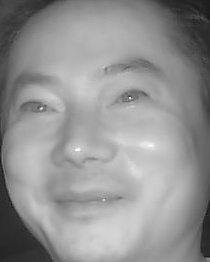eye: (106, 88, 151, 113), (17, 96, 59, 121)
mouth: (53, 179, 131, 224)
